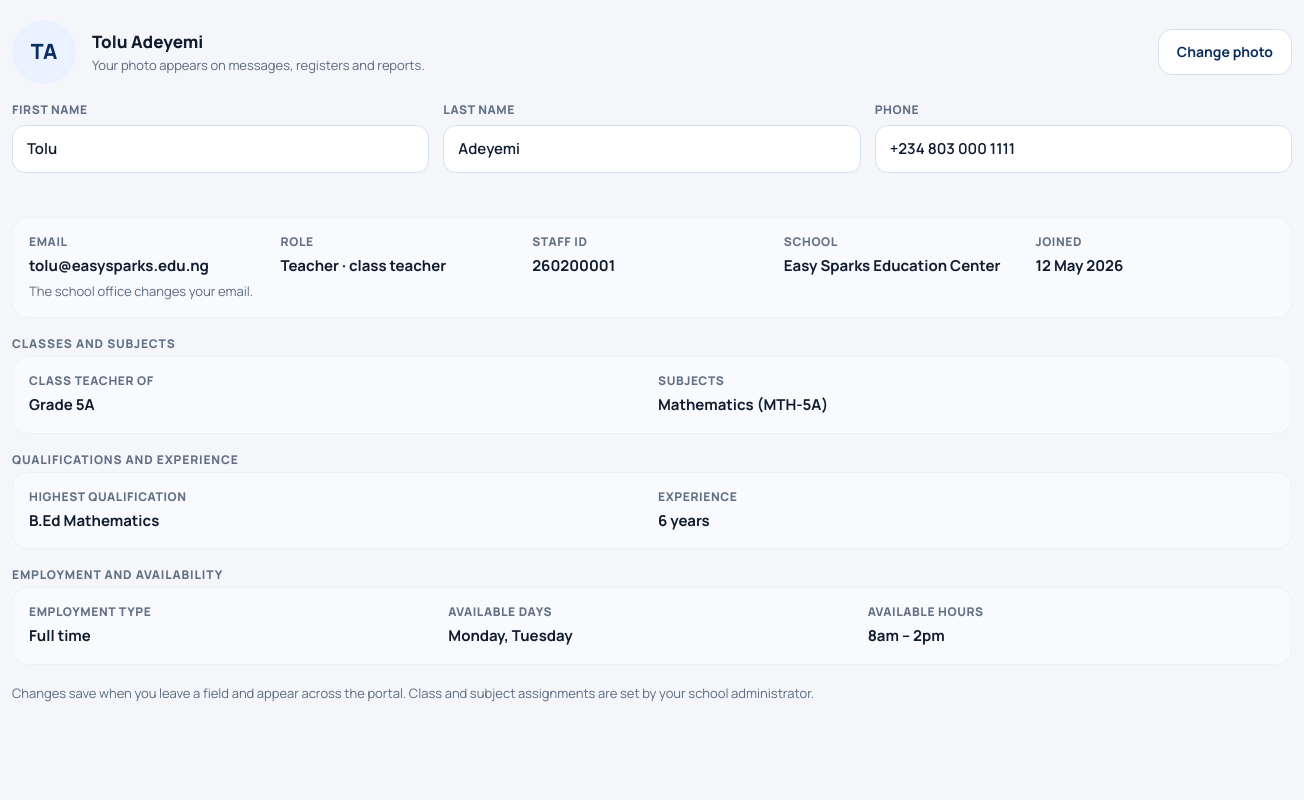
Test: Settings → Account › saves only the changed field on blur, says Saving… then Saved, and updates the signed-in user
Replace the text in the field labelled "First name" with "  Tolulope " at (221,149), box [12,125,429,173]
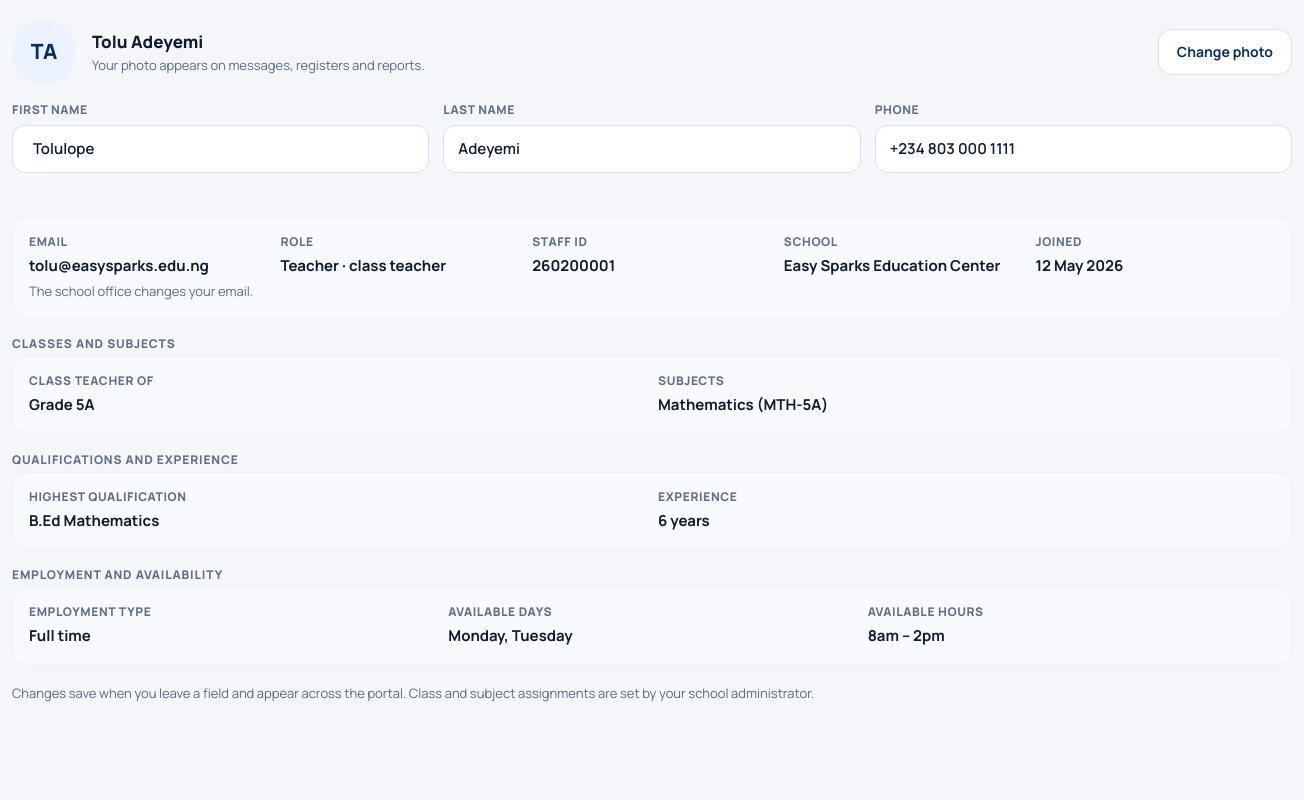
Leave the field labelled "First name", box [12,125,429,173]
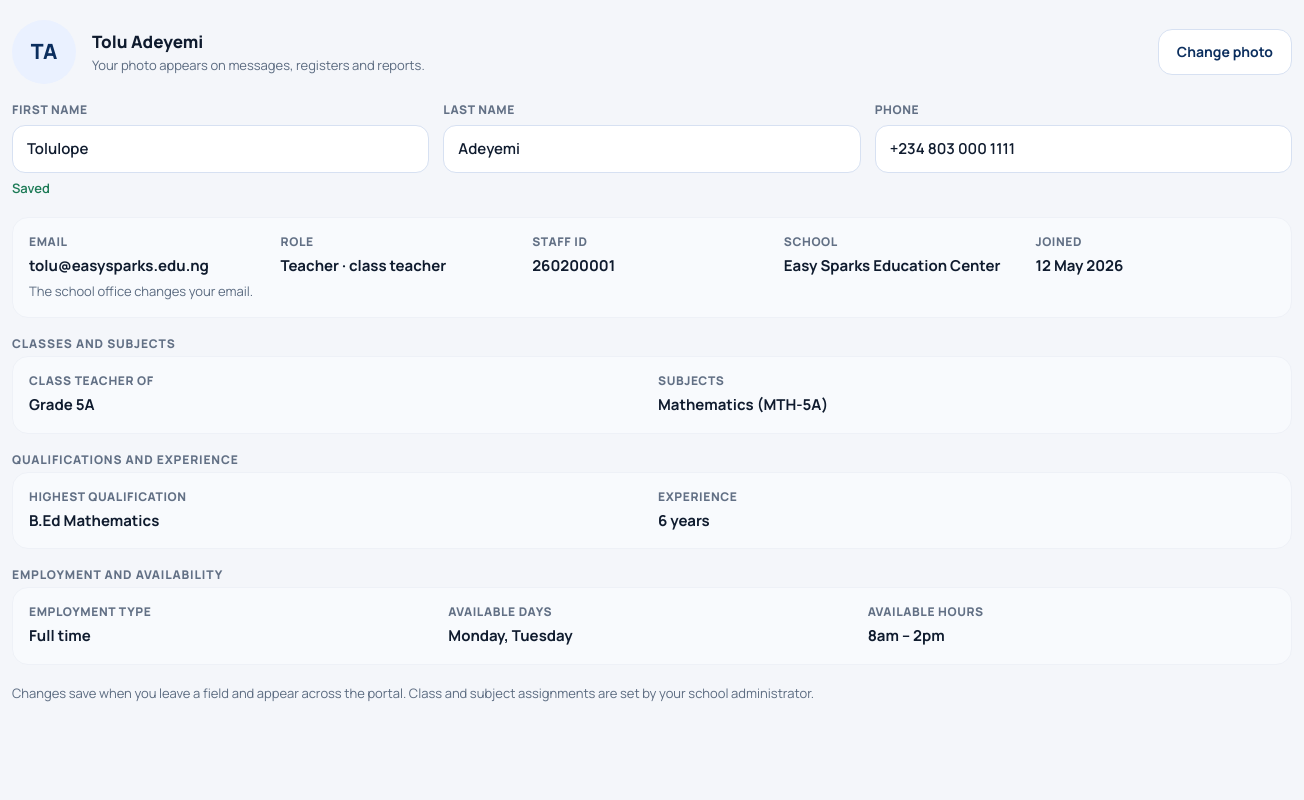
expect the text "Saved" is shown: met, box [12,179,50,197]
